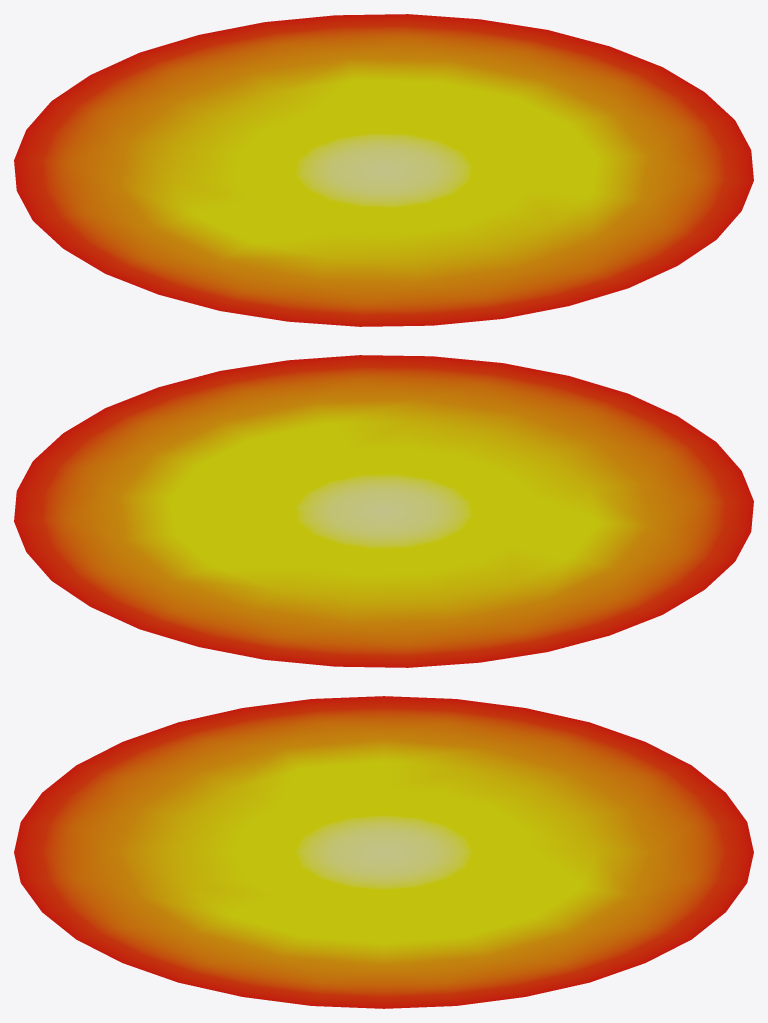
The model's file is SM_VFXTest_Disc_VertexColor.fbx.
3 renders of one model, top to bottom at view 1: azimuth 30°, elevation 25°; view 2: azimuth 150°, elevation 25°; view 3: azimuth 270°, elevation 25°, orthographic.
Visible parts, largest first — view 1: SM_VFXTest_Disc_Transparent; view 2: SM_VFXTest_Disc_Transparent; view 3: SM_VFXTest_Disc_Transparent.
Boxes of the visible parts, box(x1,y1,x2,y2) form: SM_VFXTest_Disc_Transparent: box(14, 14, 753, 326); SM_VFXTest_Disc_Transparent: box(14, 355, 753, 667); SM_VFXTest_Disc_Transparent: box(14, 696, 753, 1008).
Size of the model in its own units: 154 by 0.000416 by 154.
